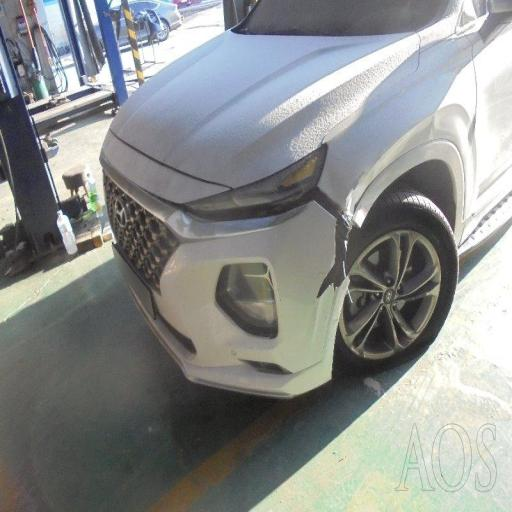broken: (289, 140, 409, 348)
dent: (414, 76, 502, 222)
